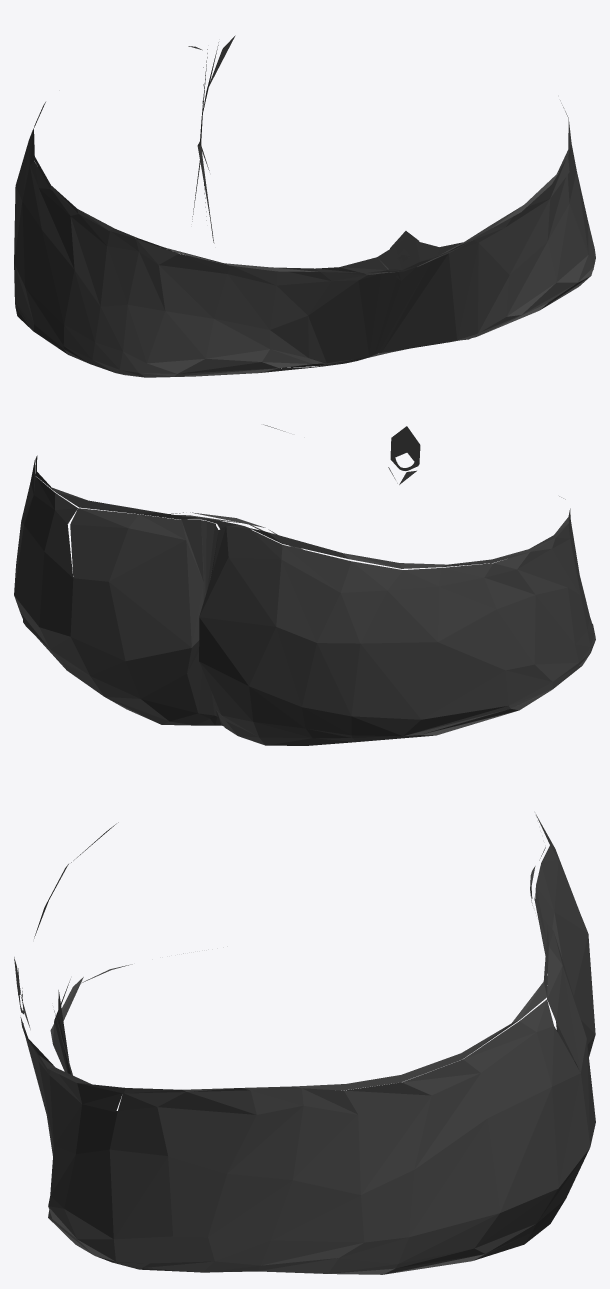
The model's file is cc_miniskirt.glb.
The picture shows the model from 3 angles, top to bottom: view 1: azimuth 30°, elevation 25°; view 2: azimuth 150°, elevation 25°; view 3: azimuth 270°, elevation 25°; orthographic projection. The views are drawn at different scales.
Visible parts, largest first — view 1: geometry_0; view 2: geometry_0; view 3: geometry_0.
Part boxes in pixels (x1,y1,x2,y2): geometry_0: (14,35,595,377); geometry_0: (14,424,595,745); geometry_0: (14,814,595,1274).
Size of the model in its own units: 0.2305 by 0.0951 by 0.1685.
Materials: 1 (1 with a texture image).
